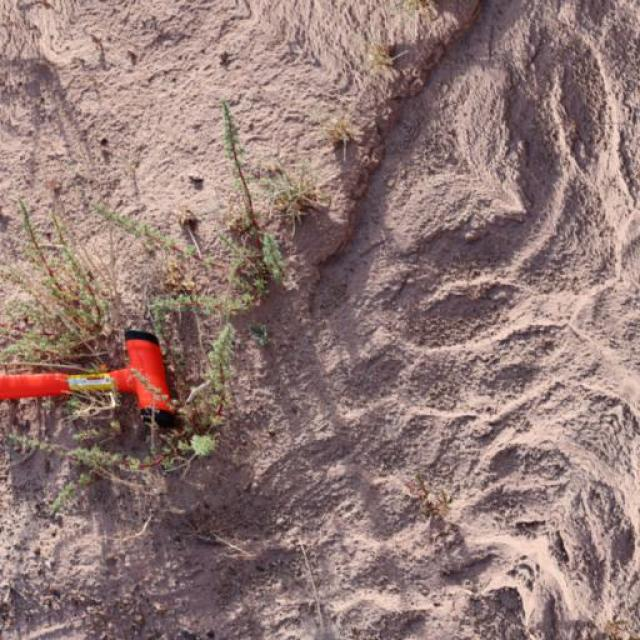mallet: (0, 326, 180, 430)
